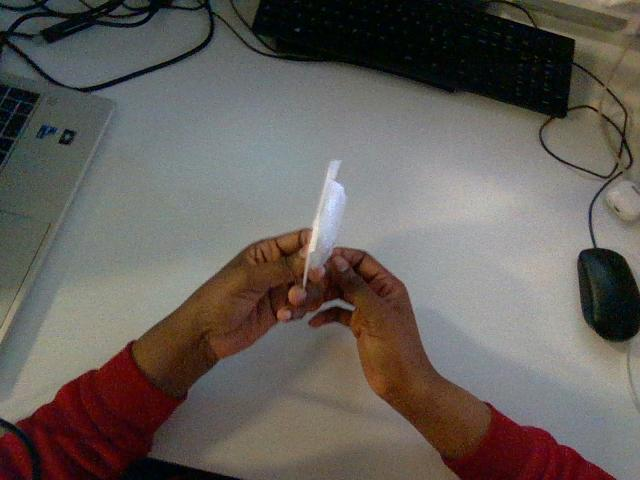gauze: (303, 160, 346, 287)
